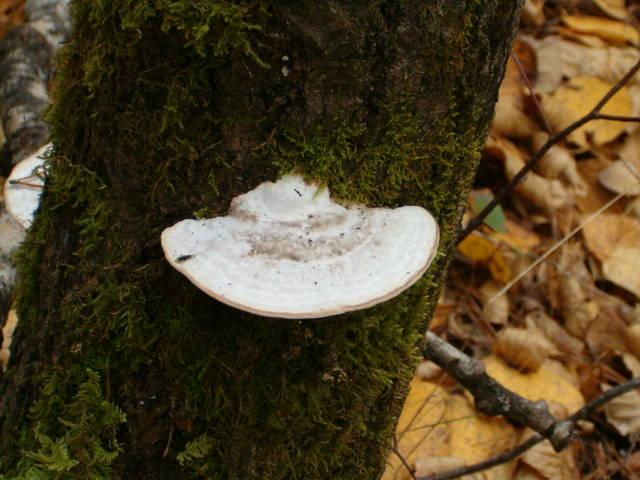poisonous_mushroom: (158, 171, 440, 320)
